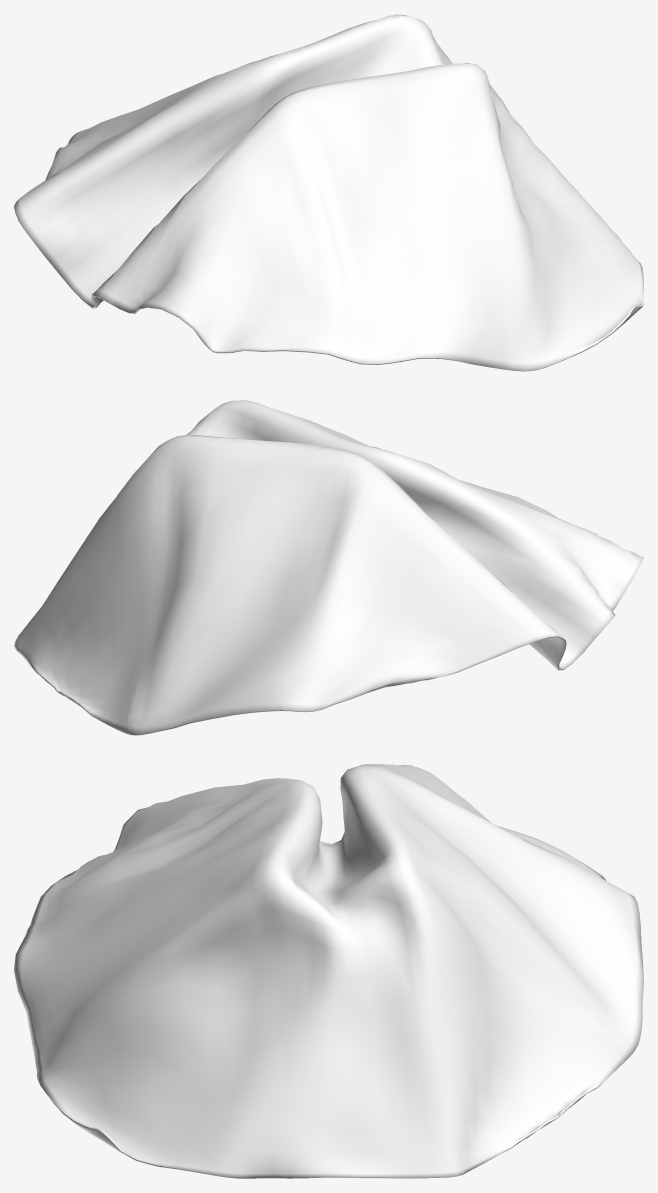
The model's file is tisu.fbx.
3 renders of one model, top to bottom at view 1: azimuth 30°, elevation 25°; view 2: azimuth 150°, elevation 25°; view 3: azimuth 270°, elevation 25°, orthographic. The views are drawn at different scales.
Parts seen in each view (by area): view 1: Plane; view 2: Plane; view 3: Plane.
Boxes of the visible parts, x1,y1,x2,y2 form: Plane: (14, 14, 643, 371); Plane: (14, 400, 643, 735); Plane: (14, 764, 643, 1178).
Size of the model in its own units: 11.13 by 4.65 by 10.39.
Materials: 1 (1 with a texture image).
